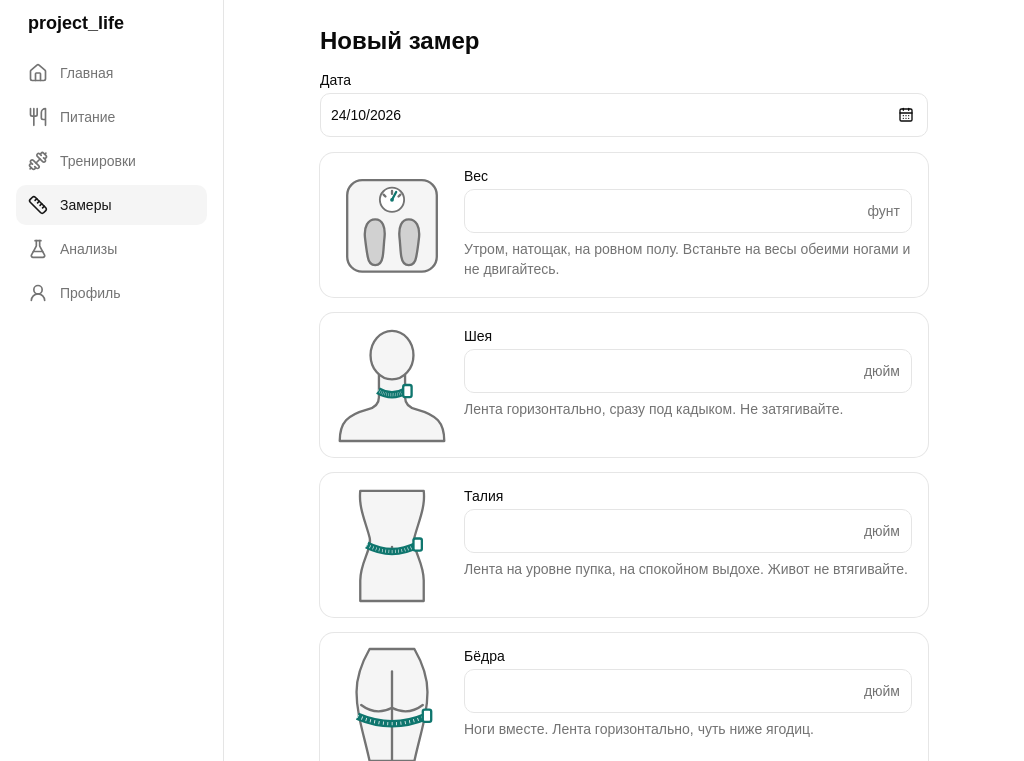
it: новый замер › в имперской системе значения вводятся в фунтах и дюймах
Type "165.4" into the field labelled "Вес" at (688, 211), box [464,189,912,233]
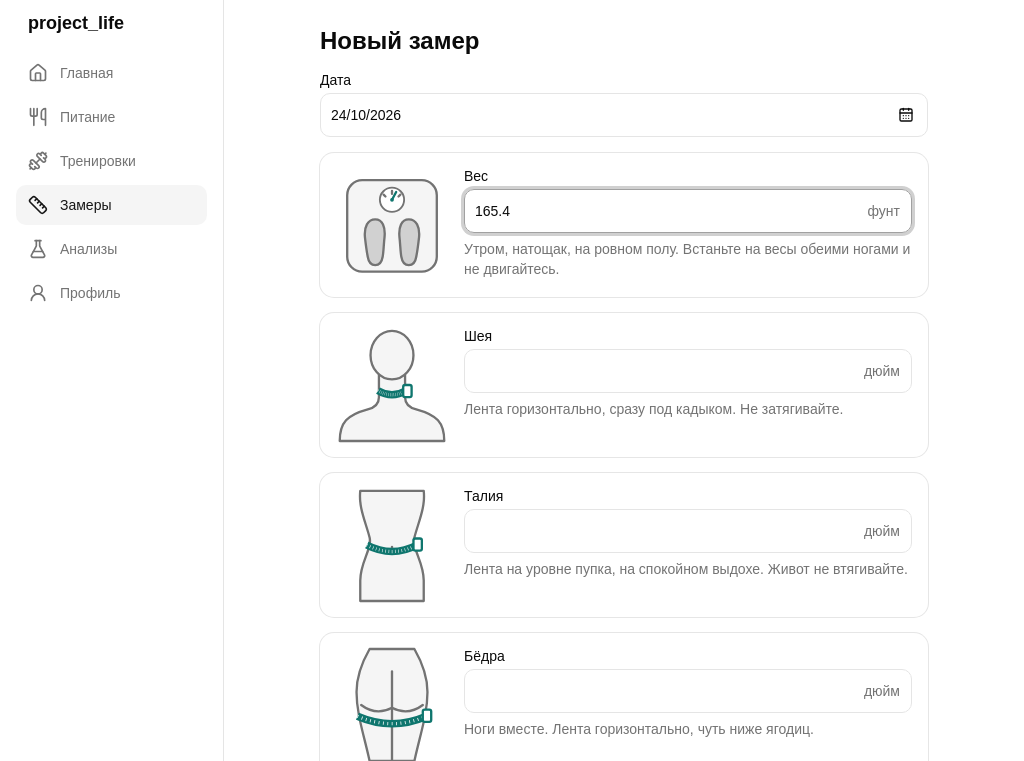
Type "15.5" into the field labelled "Шея" at (688, 371), box [464,349,912,393]
(page scrolled)
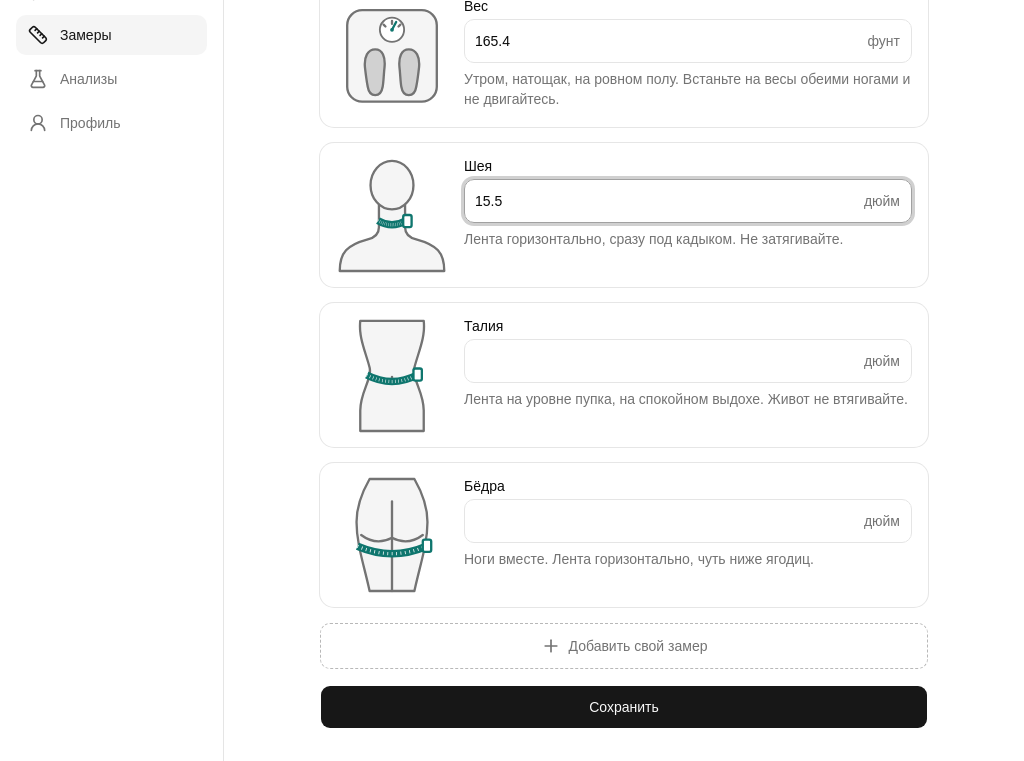
Click the button "Сохранить" at (624, 707), box [320,685,928,729]
(page scrolled)
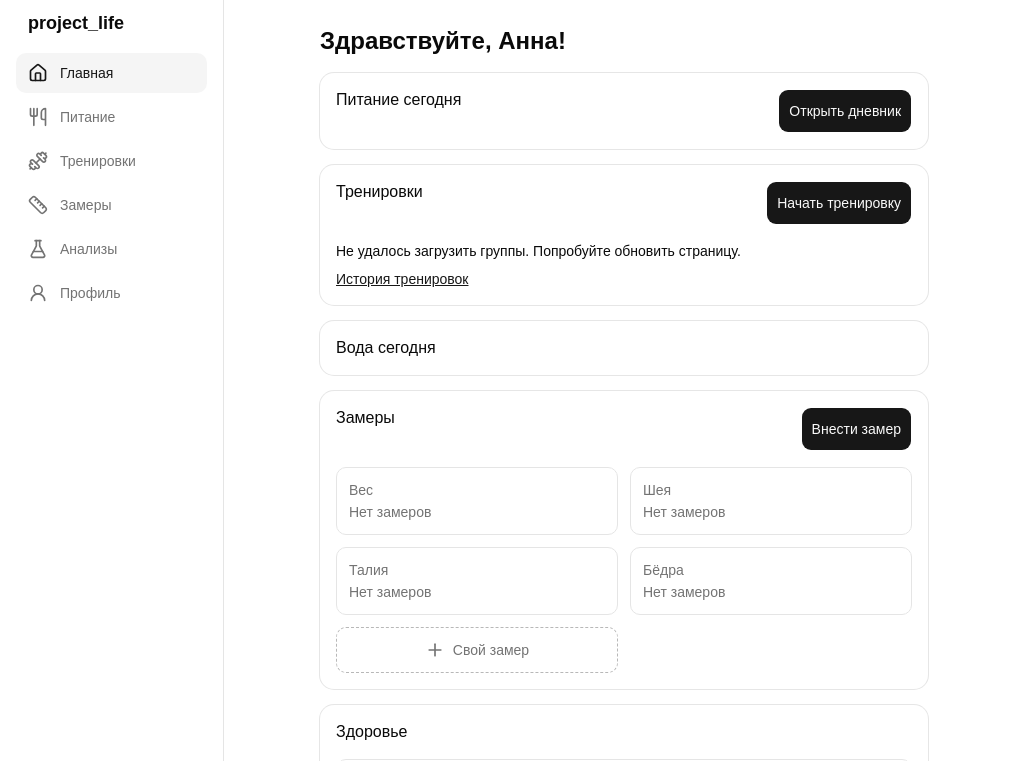
expect the heading "Здравствуйте, Анна!" is shown: met, box [320,27,566,54]
